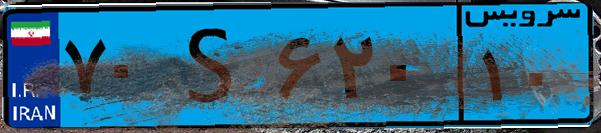0: (385, 28, 445, 110), (525, 38, 570, 115), (110, 28, 158, 98)
1: (475, 38, 525, 113)
2: (330, 28, 385, 110)
6: (270, 28, 330, 110)
7: (57, 26, 110, 100)
S: (158, 12, 270, 120)
